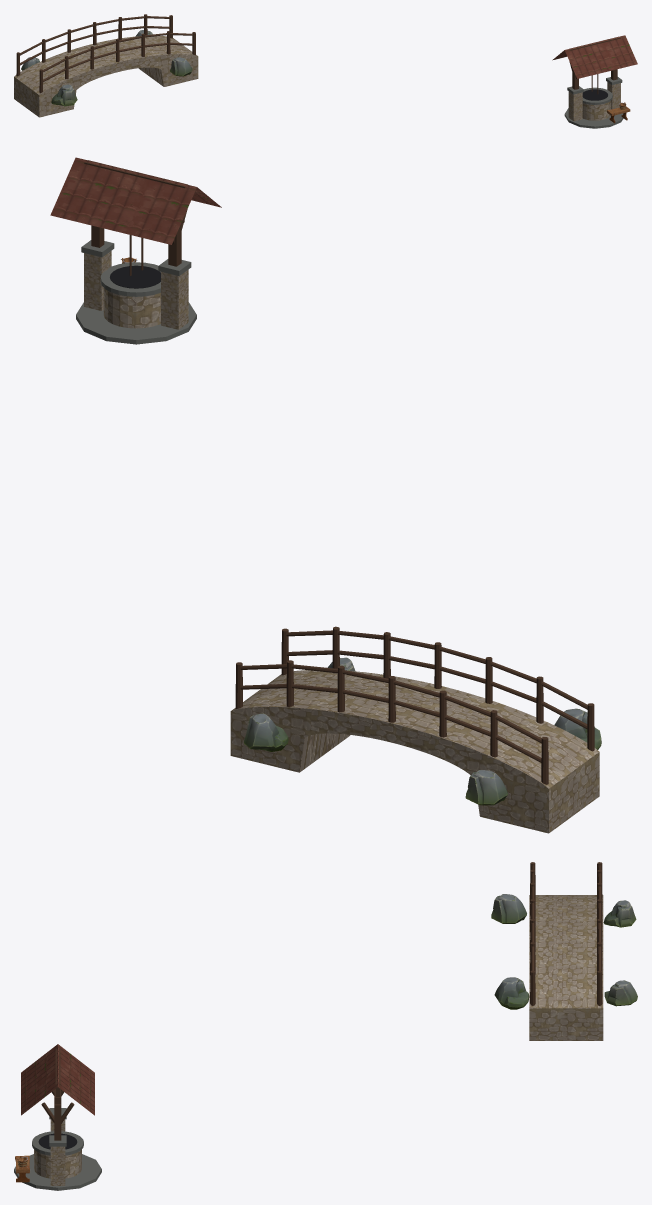
Rendered from BridgeAndWell.glb.
3 renders of one model, top to bottom at view 1: azimuth 30°, elevation 25°; view 2: azimuth 150°, elevation 25°; view 3: azimuth 270°, elevation 25°, orthographic. The views are drawn at different scales.
Parts seen in each view (by area): view 1: StoneBridge, WellRoof, WellBase, WellShaft, WellPillar, Rock_Medium_1, Rock_Medium_1.002, WellPillar.001, WellHole, WellRim, Bench.001; view 2: StoneBridge, WellRoof, WellBase, WellShaft, WellPillar, Rock_Medium_1.003, WellPillar.001, Rock_Medium_1.001, WellHole; view 3: StoneBridge, WellRoof, WellBase, Rock_Medium_1.002, Rock_Medium_1, WellShaft, Rock_Medium_1.003, Rock_Medium_1.001, WellPillar.001, WellRim.
Boxes of the visible parts, box(x1,y1,x2,y2) form: StoneBridge: box(14, 36, 198, 117); WellRoof: box(552, 35, 637, 78); WellBase: box(564, 108, 623, 128); WellShaft: box(582, 100, 611, 120); WellPillar: box(568, 91, 582, 121); Rock_Medium_1: box(51, 84, 77, 106); Rock_Medium_1.002: box(170, 57, 192, 76); WellPillar.001: box(607, 82, 620, 109); WellHole: box(582, 89, 607, 100); WellRim: box(582, 87, 612, 104); Bench.001: box(607, 106, 630, 123); StoneBridge: box(230, 670, 599, 833); WellRoof: box(50, 157, 221, 244); WellBase: box(76, 302, 196, 344); WellShaft: box(103, 288, 160, 328); WellPillar: box(161, 269, 188, 329); Rock_Medium_1.003: box(243, 713, 288, 751); WellPillar.001: box(84, 251, 111, 310); Rock_Medium_1.001: box(465, 770, 507, 805); WellHole: box(110, 265, 160, 288); StoneBridge: box(529, 895, 603, 1040); WellRoof: box(21, 1044, 94, 1115); WellBase: box(14, 1154, 101, 1190); Rock_Medium_1.002: box(494, 977, 529, 1009); Rock_Medium_1: box(491, 894, 526, 923); WellShaft: box(34, 1149, 81, 1178); Rock_Medium_1.003: box(604, 980, 637, 1006); Rock_Medium_1.001: box(603, 900, 636, 927); WellPillar.001: box(50, 1146, 65, 1185); WellRim: box(32, 1131, 83, 1155).
Size of the model in its own units: 20.25 by 4.45 by 17.74.
15 materials, 10 textured.
